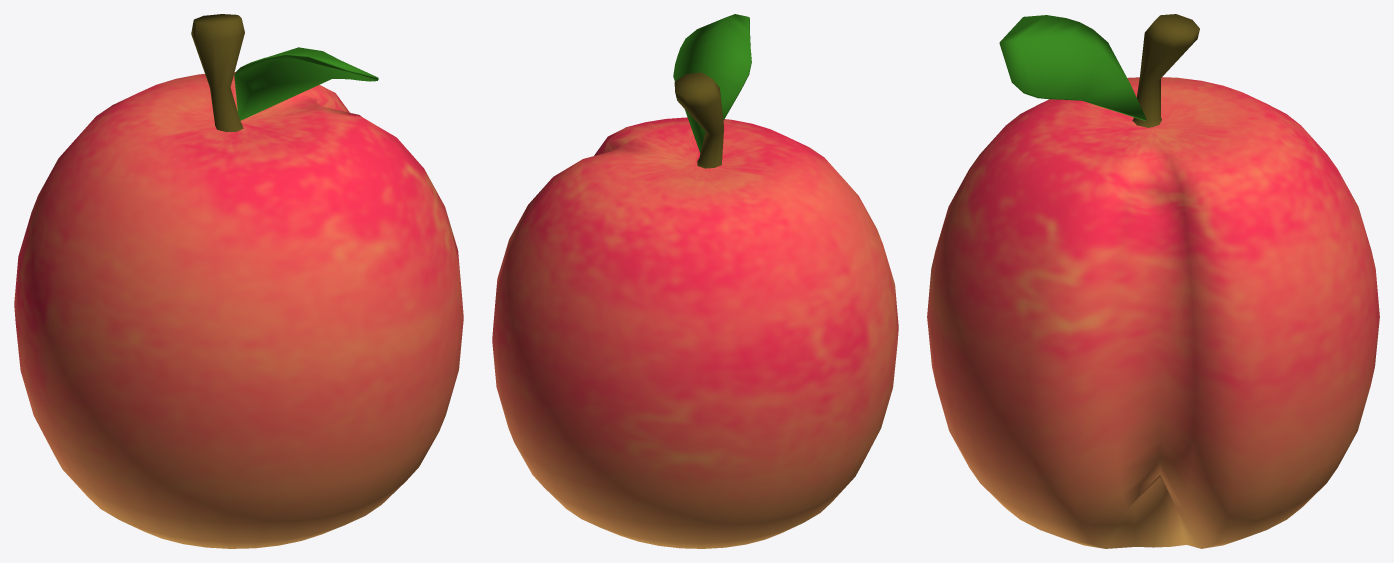
File: Peach.fbx
3 renders of one model, left to right at view 1: azimuth 30°, elevation 25°; view 2: azimuth 150°, elevation 25°; view 3: azimuth 270°, elevation 25°, orthographic. The views are drawn at different scales.
Visible parts, largest first — view 1: Sphere; view 2: Sphere; view 3: Sphere.
Part boxes in pixels (x1,y1,x2,y2): Sphere: (14, 14, 463, 548); Sphere: (492, 14, 898, 548); Sphere: (927, 14, 1379, 548).
Bounding box in the file's own units: 558 × 713 × 580.
1 material, 1 textured.
